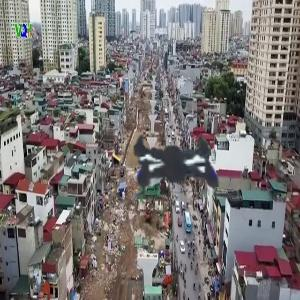drone: (67, 64, 286, 283)
